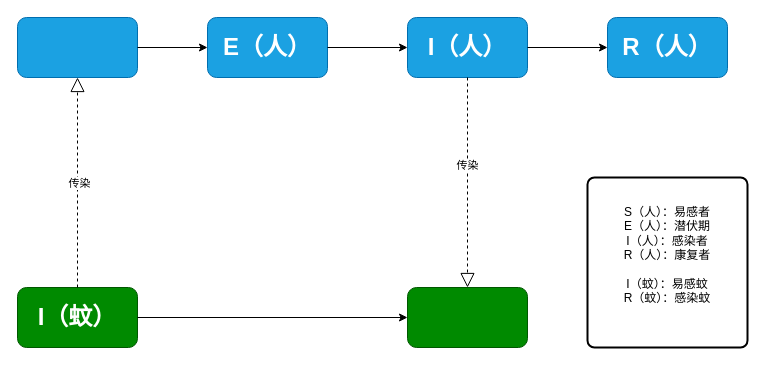
Some shapes in this 766 by 366 pixel diagram are drawn without their labels. Here are the shapes that lost their labels. From the top down, the centre of each, then its label:
point 77,47: S（人）
point 467,317: S（蚊）
